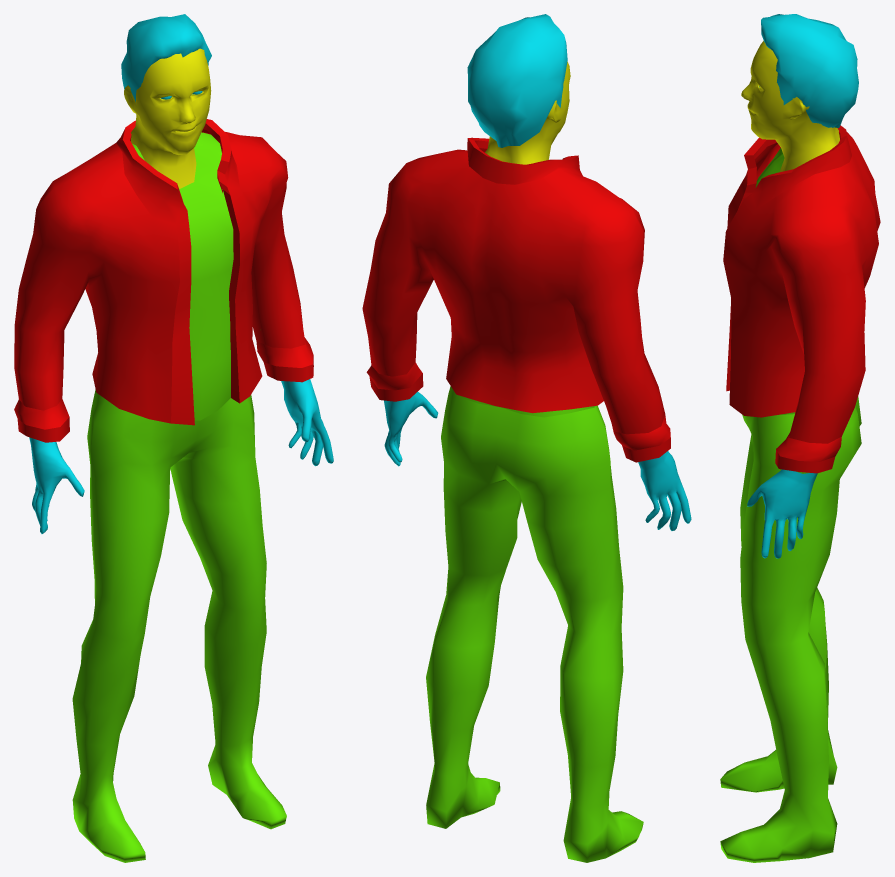
File: StarLordBody_Low.fbx
3 renders of one model, left to right at view 1: azimuth 30°, elevation 25°; view 2: azimuth 150°, elevation 25°; view 3: azimuth 270°, elevation 25°, orthographic.
Visible parts, largest first — view 1: StarLordTorso_Low, Jacket_Low, StarLordMisc_Low, StarLordBody_Low; view 2: Jacket_Low, StarLordTorso_Low, StarLordMisc_Low, StarLordBody_Low; view 3: Jacket_Low, StarLordTorso_Low, StarLordMisc_Low, StarLordBody_Low.
Boxes of the visible parts, <box> form: StarLordTorso_Low: <box>30,132,286,862</box>; Jacket_Low: <box>14,119,313,442</box>; StarLordMisc_Low: <box>29,14,333,533</box>; StarLordBody_Low: <box>124,48,211,188</box>; Jacket_Low: <box>362,137,670,462</box>; StarLordTorso_Low: <box>426,386,643,862</box>; StarLordMisc_Low: <box>384,14,691,530</box>; StarLordBody_Low: <box>485,61,570,164</box>; Jacket_Low: <box>723,125,880,473</box>; StarLordTorso_Low: <box>720,148,861,862</box>; StarLordMisc_Low: <box>747,14,858,558</box>; StarLordBody_Low: <box>741,40,839,171</box>.
Bounding box in the file's own units: 8.59 × 22.45 × 4.06.
